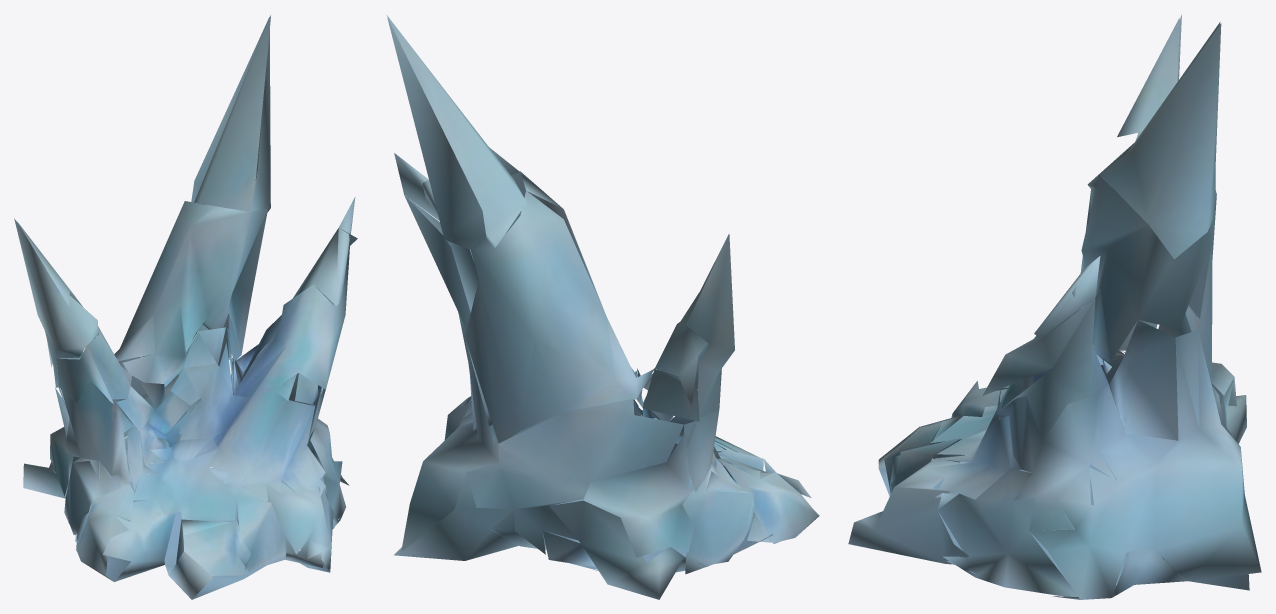
Rendered from iceshard.glb.
3 renders of one model, left to right at view 1: azimuth 30°, elevation 25°; view 2: azimuth 150°, elevation 25°; view 3: azimuth 270°, elevation 25°, orthographic. The views are drawn at different scales.
Parts seen in each view (by area): view 1: iceshard; view 2: iceshard; view 3: iceshard.
Boxes of the visible parts, bbox=[...] form: iceshard: bbox=[14, 15, 357, 599]; iceshard: bbox=[386, 15, 819, 599]; iceshard: bbox=[848, 14, 1261, 599].
Bounding box in the file's own units: 2.96 × 4.01 × 2.58.
1 material, 1 textured.
